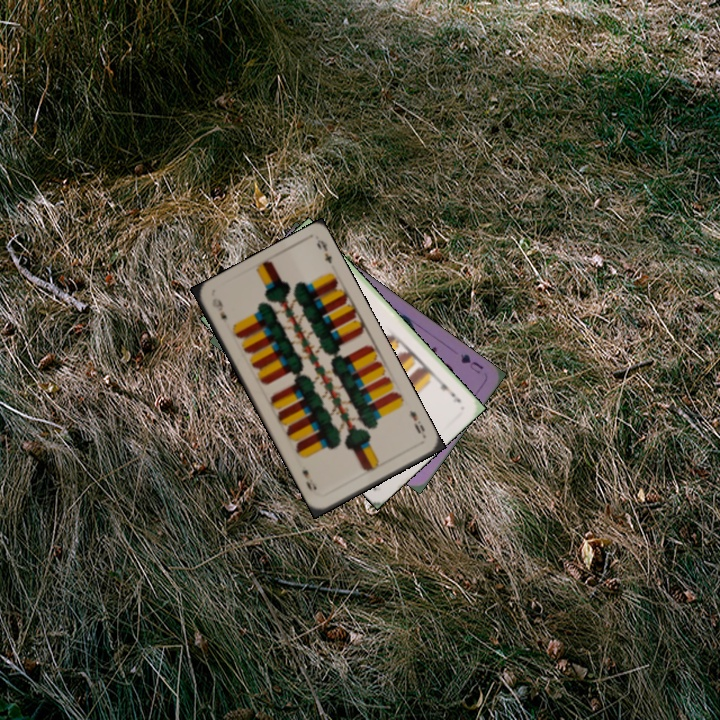E7: (433, 374, 463, 405)
E9: (405, 406, 428, 440), (207, 294, 230, 322)
GU: (456, 350, 486, 376)
